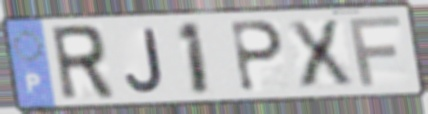1: (176, 19, 216, 97)
F: (345, 14, 404, 89)
J: (123, 26, 166, 94)
P: (228, 19, 286, 95)
R: (47, 22, 118, 104)
X: (283, 17, 357, 91)
